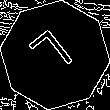L_SE: (28, 26, 82, 84)
